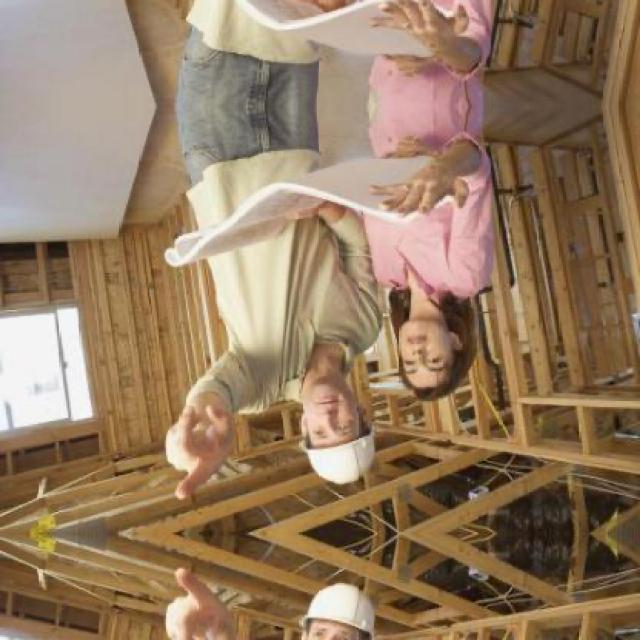con casco: (290, 422, 386, 497)
sin casco: (407, 368, 459, 401)
